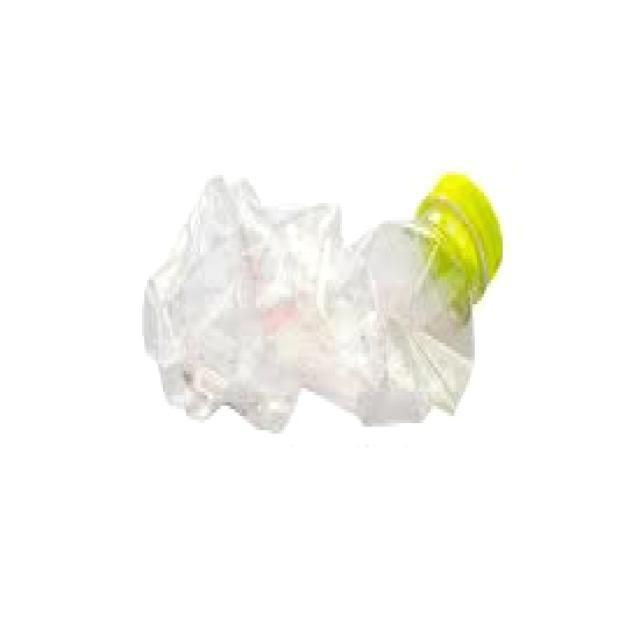bottle: (132, 154, 506, 443)
cap: (420, 166, 521, 296)
